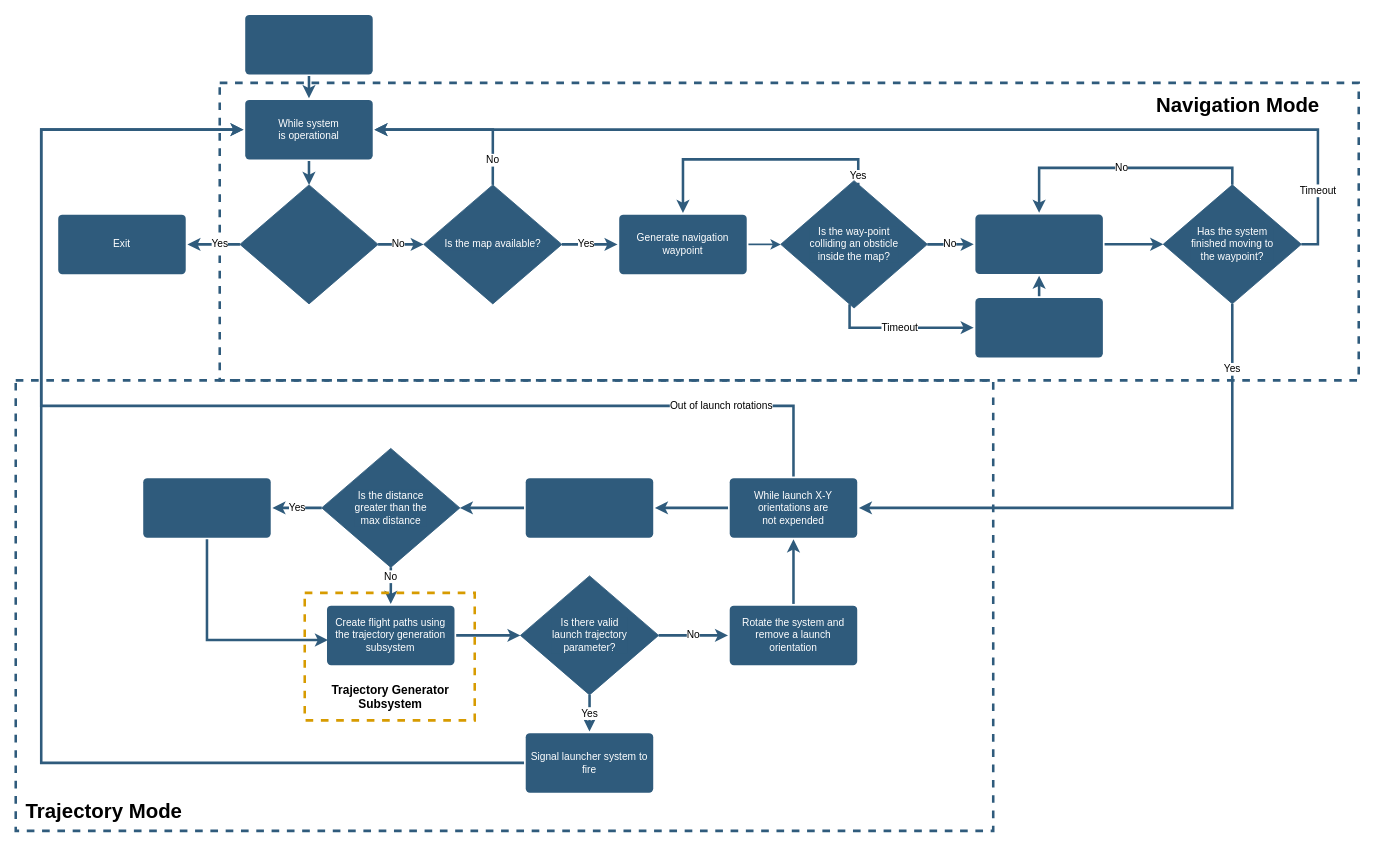
Some shapes in this 1391 by 852 pixel diagram are drawn without their labels. Here are the shapes that lost their labels. From the top down, the box of each, then its label:
(245, 14, 372, 74): Initialize System
(239, 184, 378, 304): Is the system shutdown?
(975, 214, 1102, 274): Navigate to the way-point
(975, 298, 1102, 357): Set way-point to default position
(143, 478, 270, 537): Set the distance equal to the maximum distance
(525, 478, 653, 537): Get linear distance in front of the system
